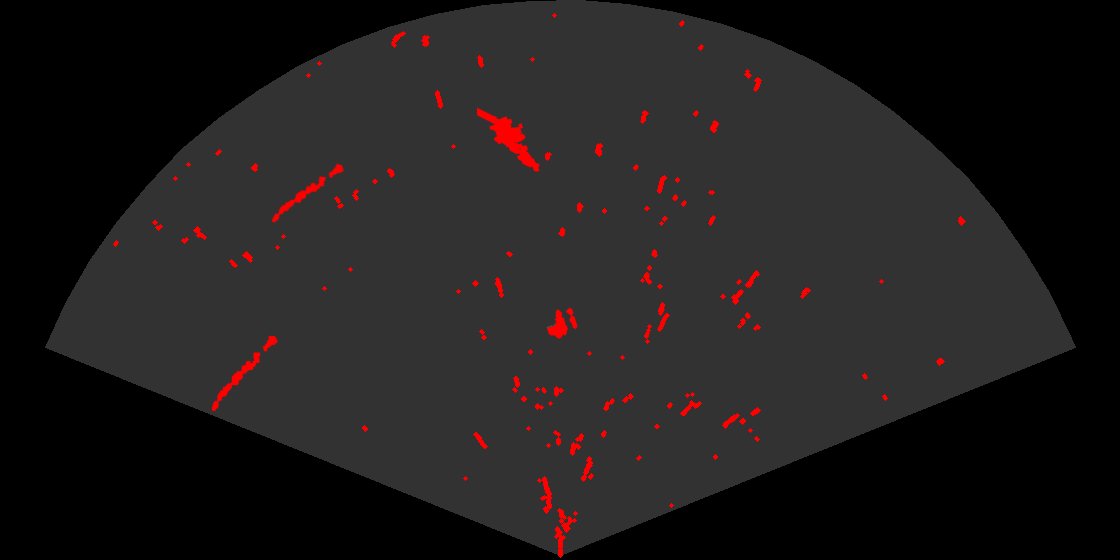ball: (545, 306, 579, 340)
chain: (210, 334, 280, 413), (270, 162, 346, 224)
frogman: (477, 106, 541, 173)
